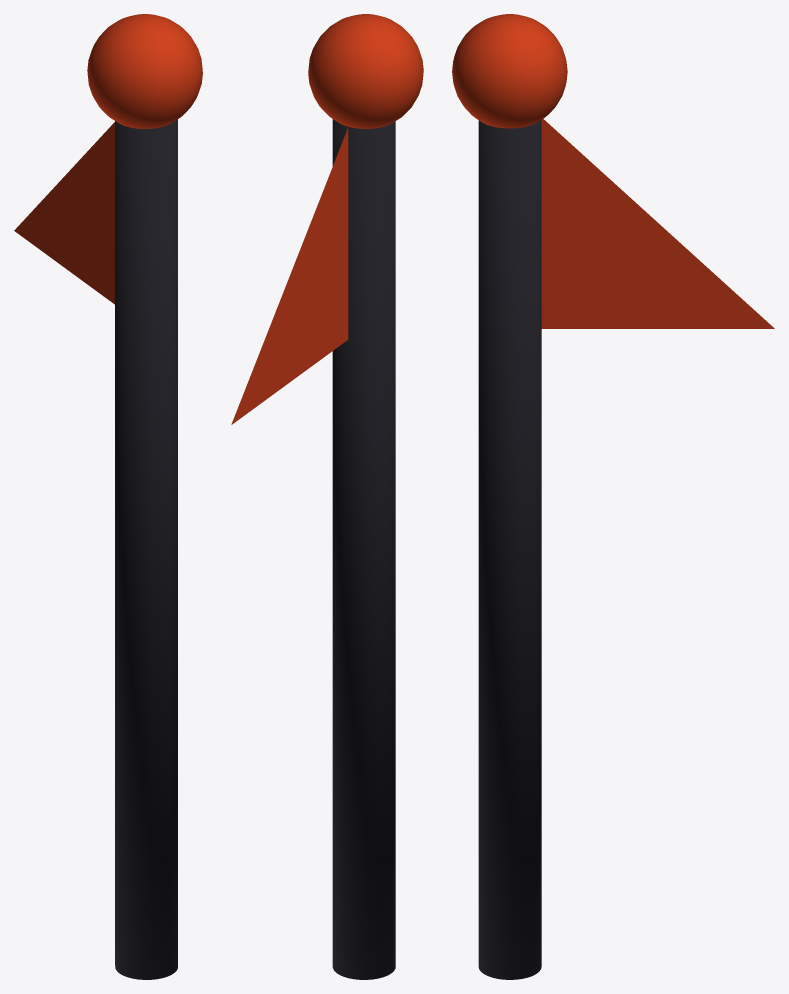
Rendered from GoalPost.obj.
The picture shows the model from 3 angles, left to right: view 1: azimuth 30°, elevation 25°; view 2: azimuth 150°, elevation 25°; view 3: azimuth 270°, elevation 25°; orthographic projection.
Parts seen in each view (by area): view 1: Cylinder, Sphere, Plane; view 2: Cylinder, Plane, Sphere; view 3: Cylinder, Plane, Sphere.
Part boxes in pixels (box(x1,y1,x2,y2)): Cylinder: box(115, 119, 177, 979); Sphere: box(87, 14, 202, 128); Plane: box(14, 122, 114, 304); Cylinder: box(332, 119, 395, 979); Plane: box(231, 128, 348, 424); Sphere: box(308, 14, 423, 128); Cylinder: box(478, 120, 541, 979); Plane: box(541, 119, 774, 328); Sphere: box(452, 14, 567, 128).
Size of the model in its own units: 3.67 by 33.13 by 10.25.
